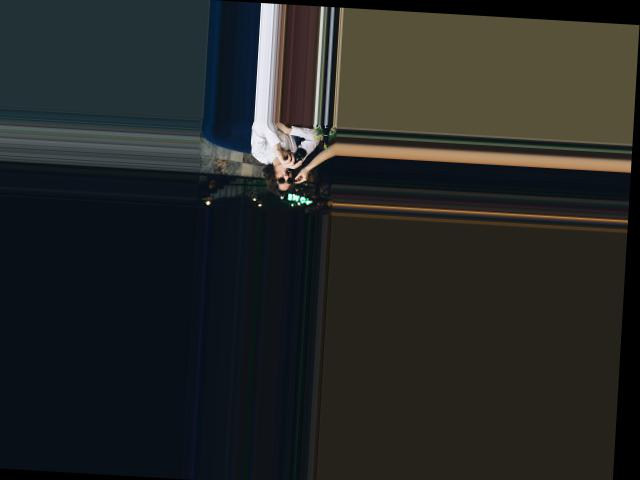beer: (286, 145, 308, 175)
